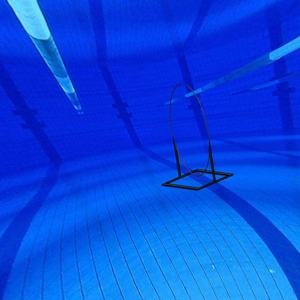circle: (160, 82, 236, 193)
